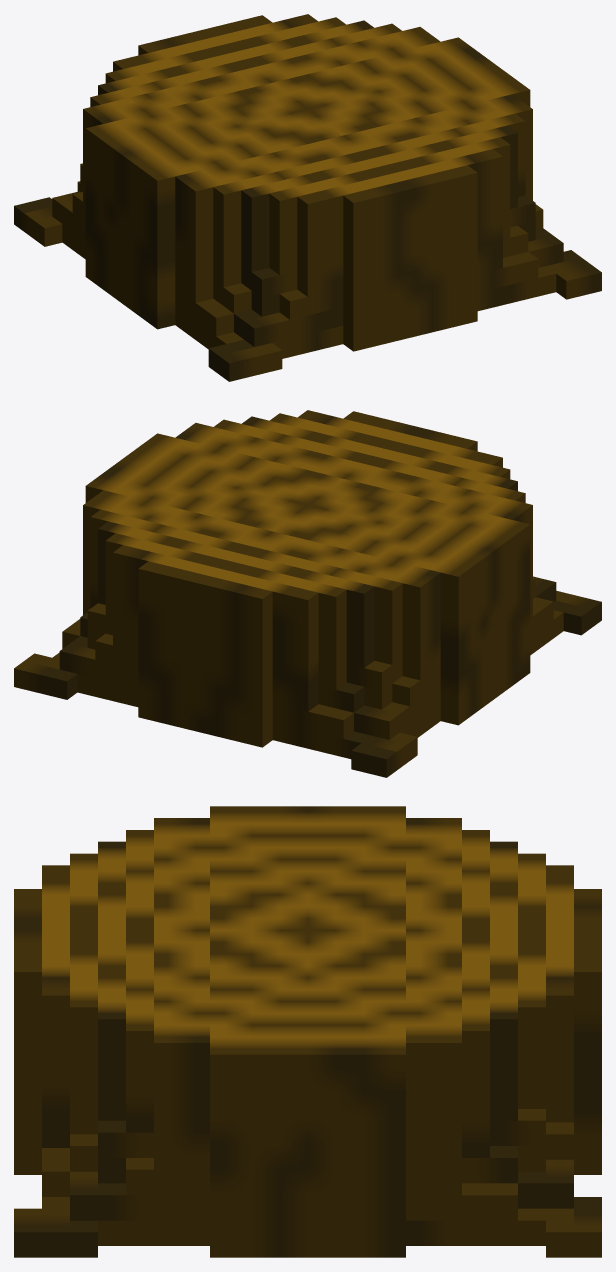
The model's file is Grass_Stump_Tile.fbx.
3 renders of one model, top to bottom at view 1: azimuth 30°, elevation 25°; view 2: azimuth 150°, elevation 25°; view 3: azimuth 270°, elevation 25°, orthographic. The views are drawn at different scales.
Parts seen in each view (by area): view 1: Grass_Standart_Tile; view 2: Grass_Standart_Tile; view 3: Grass_Standart_Tile.
Boxes of the visible parts, left/top/right/bottom form: Grass_Standart_Tile: left=14, top=14, right=601, bottom=381; Grass_Standart_Tile: left=14, top=410, right=601, bottom=777; Grass_Standart_Tile: left=14, top=806, right=601, bottom=1257.
Bounding box in the file's own units: 21 × 8 × 21.
